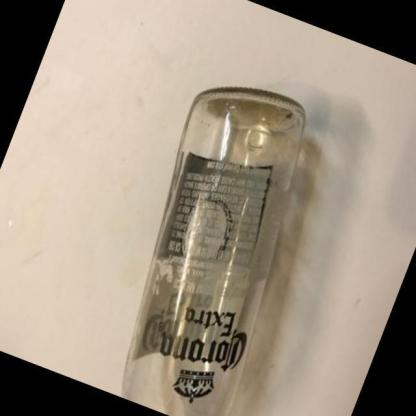Can: (121, 85, 306, 416)
